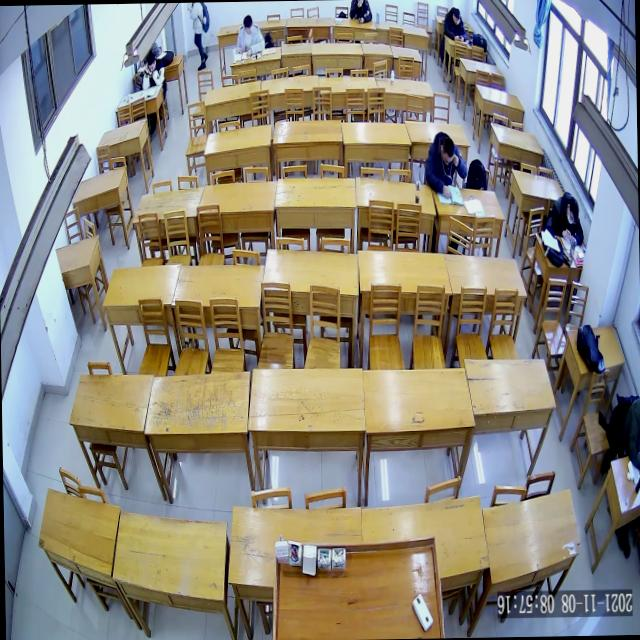bow: (548, 190, 584, 245)
down: (440, 137, 454, 165), (566, 196, 580, 223), (242, 14, 252, 34), (146, 53, 156, 72), (452, 8, 461, 24)
sit: (424, 130, 468, 200), (236, 14, 264, 54), (142, 52, 166, 88), (443, 6, 467, 42)
